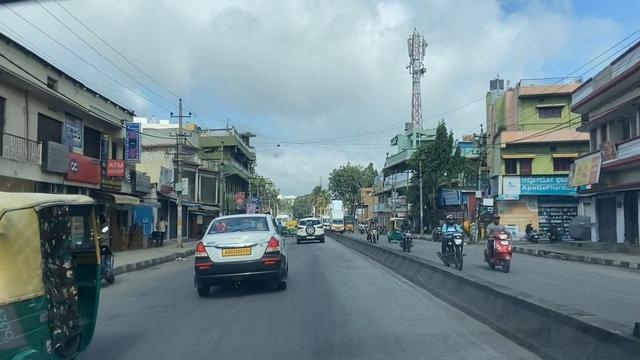LMV: (196, 210, 283, 300), (297, 218, 323, 244)
